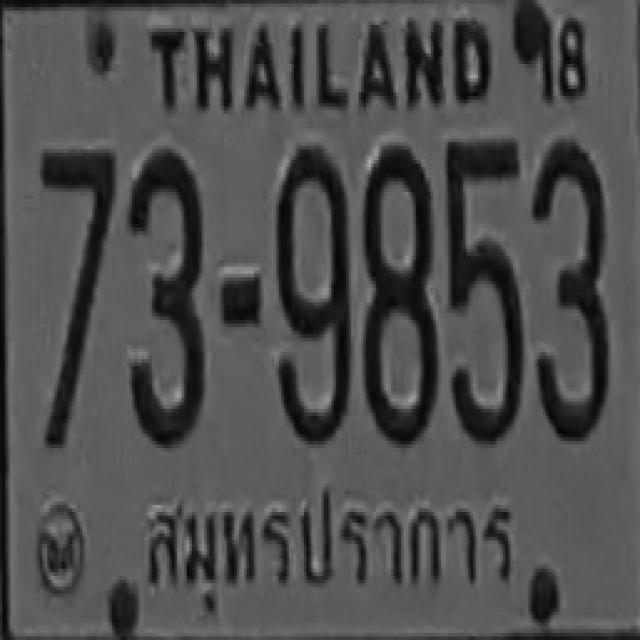3: (529, 137, 609, 439), (126, 148, 203, 442)
5: (444, 137, 522, 443)
7: (37, 146, 114, 441), (37, 146, 114, 327)
8: (361, 144, 436, 443)
9: (274, 144, 349, 443)
SamutPrakan: (141, 472, 527, 607)
